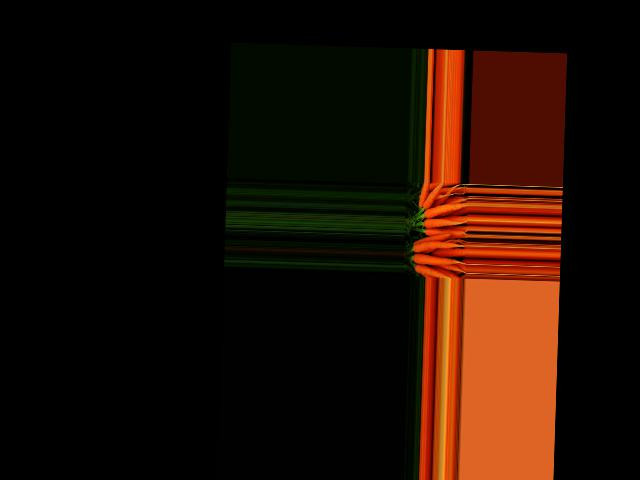carrot: (413, 251, 464, 268)
